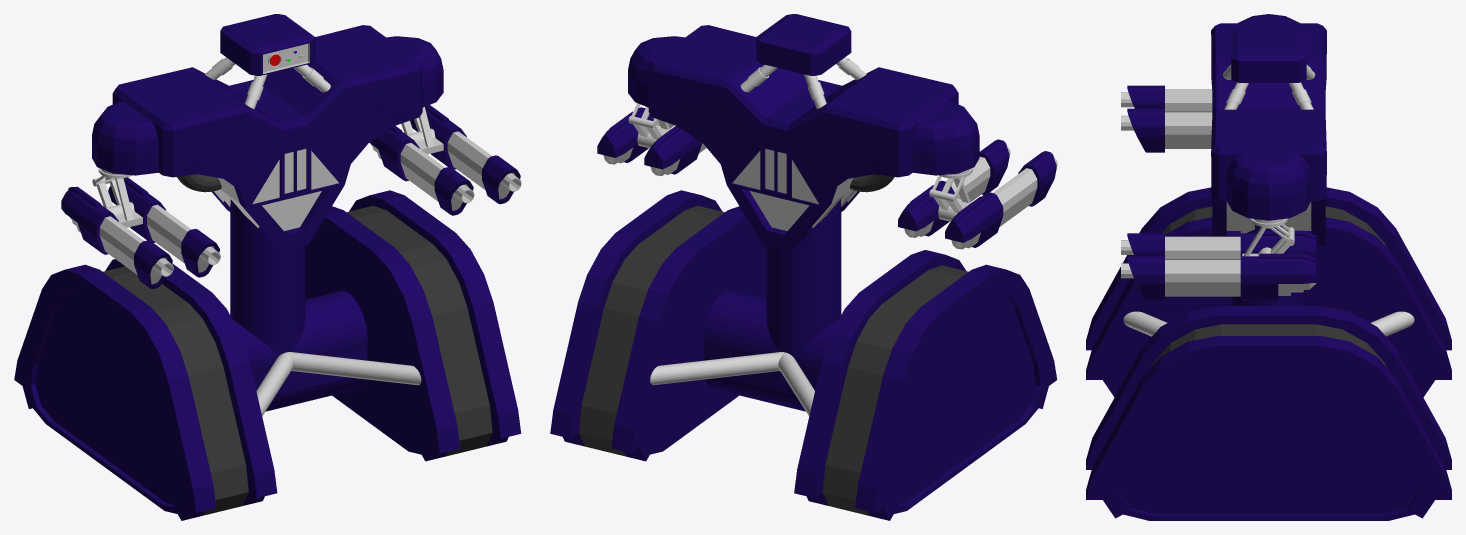
Rendered from Warbot-Blue.dae.
3 renders of one model, left to right at view 1: azimuth 30°, elevation 25°; view 2: azimuth 150°, elevation 25°; view 3: azimuth 270°, elevation 25°, orthographic.
Parts seen in each view (by area): view 1: Torso; view 2: Torso; view 3: Torso.
Part boxes in pixels (x1,y1,x2,y2): Torso: (14,14,521,520); Torso: (550,14,1057,520); Torso: (1086,14,1451,520).
Size of the model in its own units: 2.28 by 1.94 by 2.36.
